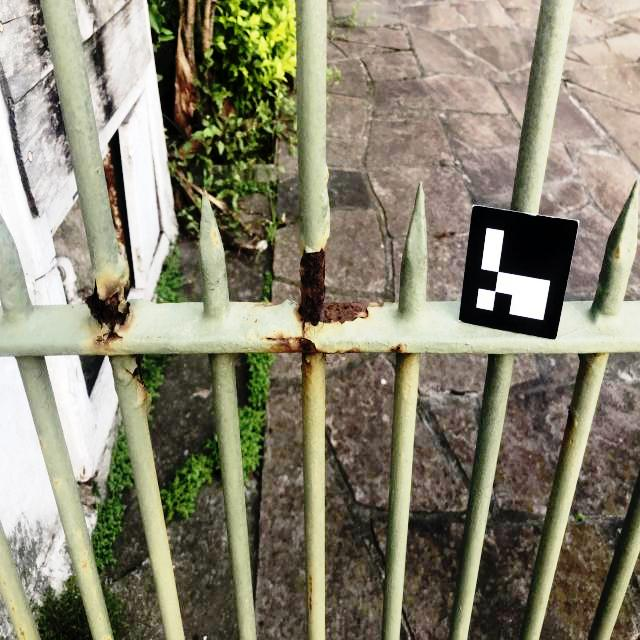Corrosion: (265, 246, 385, 357), (85, 275, 135, 347), (103, 144, 126, 247), (124, 355, 147, 394), (567, 406, 576, 426), (335, 347, 360, 354), (309, 575, 313, 613), (389, 343, 402, 353), (259, 303, 283, 308), (19, 628, 26, 639), (214, 231, 219, 244), (202, 185, 207, 194), (616, 248, 620, 258), (82, 561, 87, 569), (594, 354, 602, 357), (98, 616, 102, 621), (104, 637, 110, 640), (11, 606, 14, 611), (4, 581, 6, 585), (10, 599, 12, 602), (40, 439, 41, 444)
